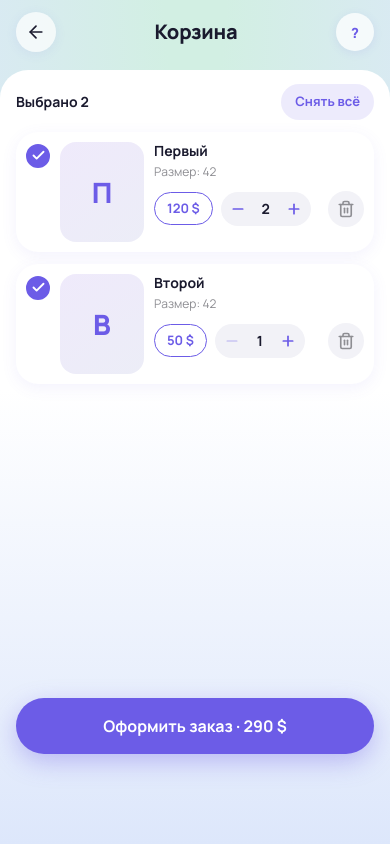
Test: CartView › список: позиции, итог выбранных и активный CTA
The width and height of the screenshot is (390, 844).
Expected: the button "Первый" is shown, [154,142,208,160]
Expected: the button "Второй" is shown, [154,274,205,292]
Click the button "Оформить заказ · 290 $".
click(195, 726)  # box [16,698,374,754]
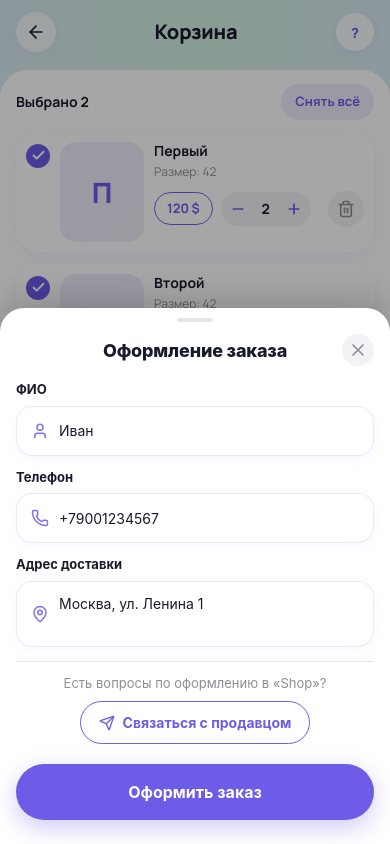
Expected: the element with test id "checkout-form" is shown, [16,334,374,820]
